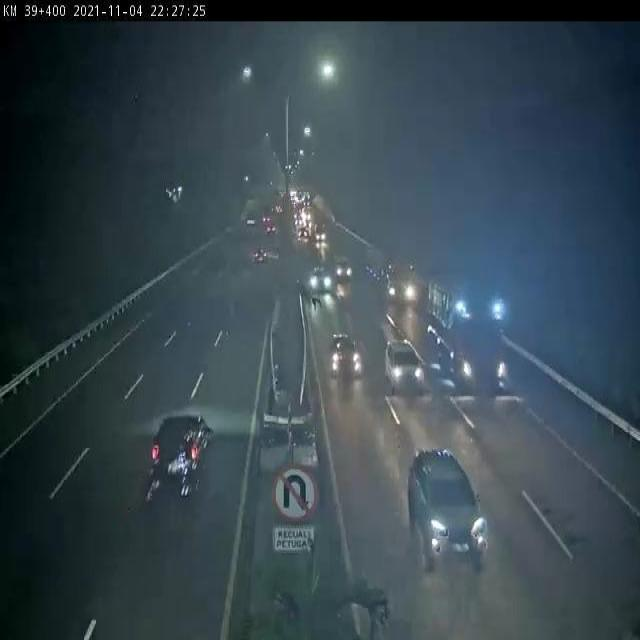ARABA: (408, 450, 489, 566), (149, 414, 212, 494), (385, 341, 426, 392), (329, 331, 364, 377), (308, 267, 331, 293), (251, 245, 272, 268), (337, 260, 352, 281)
TIR: (427, 275, 508, 389), (367, 246, 421, 302)
